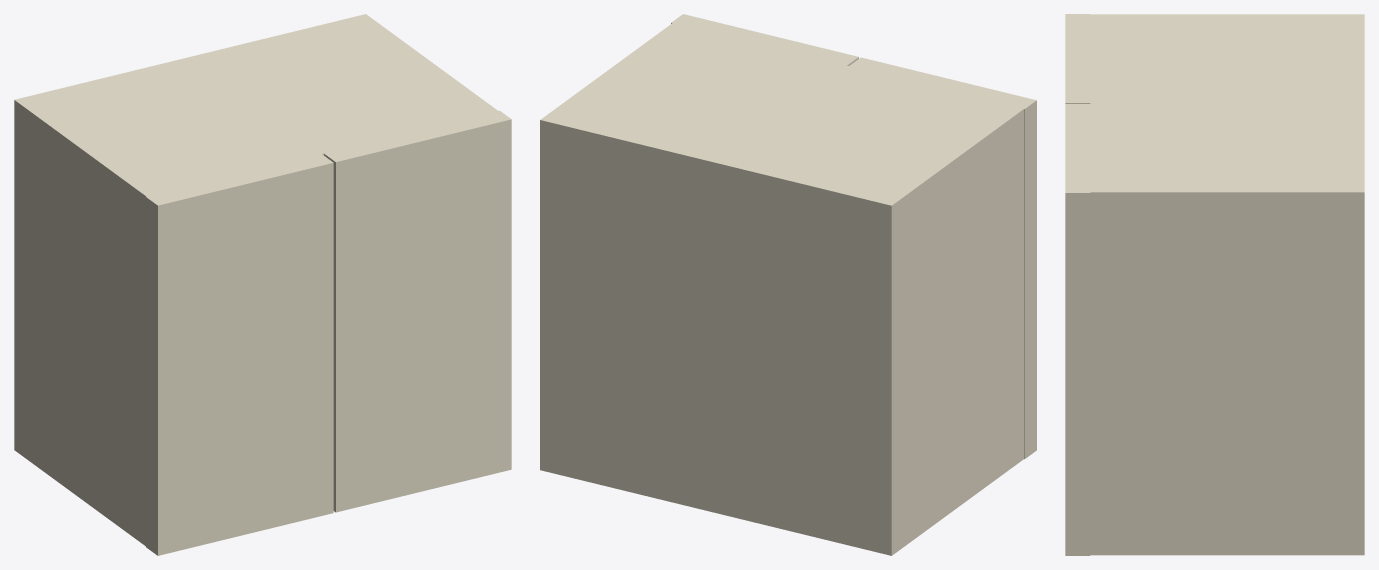
File: cabinetWash.fbx
The picture shows the model from 3 angles, left to right: view 1: azimuth 30°, elevation 25°; view 2: azimuth 150°, elevation 25°; view 3: azimuth 270°, elevation 25°; orthographic projection. The views are drawn at different scales.
Visible parts, largest first — view 1: Cube, Cube.001, Cube.002; view 2: Cube, Cube.001, Cube.002; view 3: Cube, Cube.002, Cube.001.
Part boxes in pixels (box(x1,y1,x2,y2)): Cube: box(14, 14, 497, 546); Cube.001: box(146, 154, 333, 555); Cube.002: box(324, 110, 511, 512); Cube: box(540, 23, 1023, 555); Cube.001: box(849, 57, 1036, 459); Cube.002: box(671, 14, 858, 65); Cube: box(1090, 14, 1364, 555); Cube.002: box(1065, 104, 1090, 555); Cube.001: box(1065, 14, 1090, 103).
Size of the model in its own units: 309 by 292 by 218.
